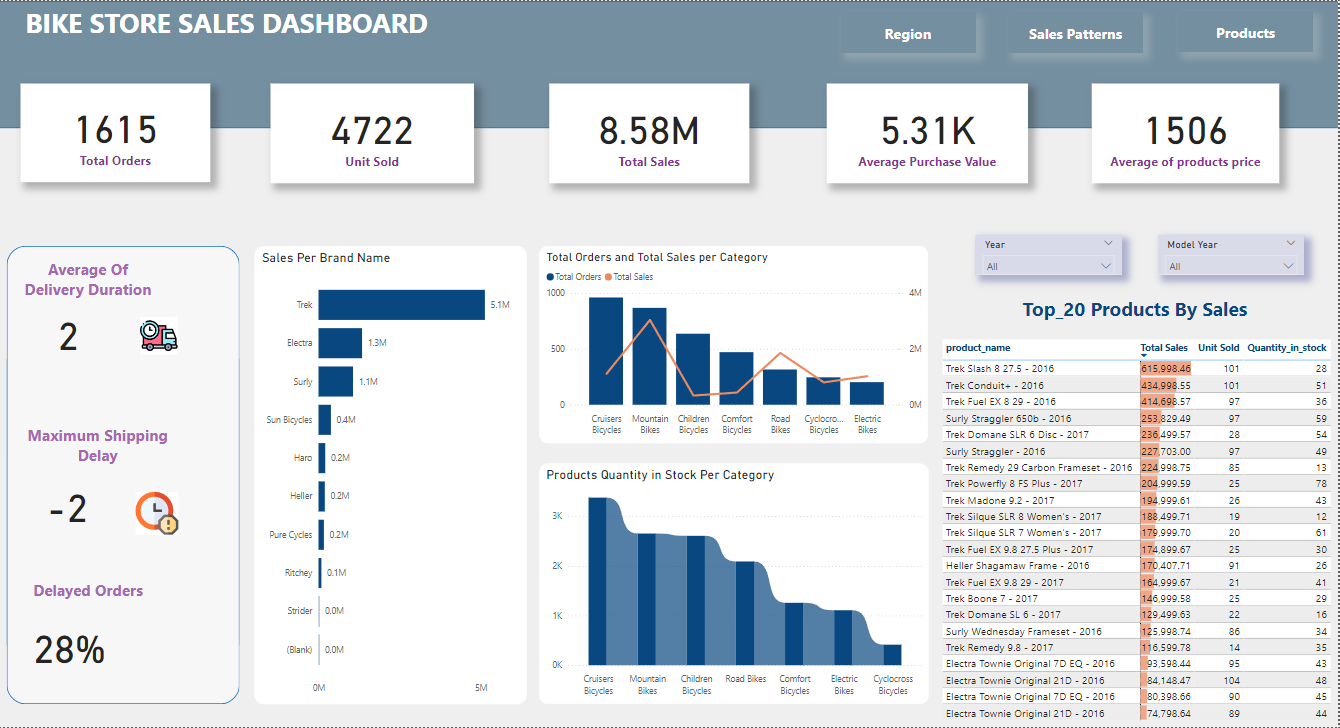

The dashboard page shown, as its layout file describes it:
{"tool":"powerbi","page":{"name":"Products","canvas":[1880,1020],"ordinal":2},"visuals":[{"type":"shape","box":[0,0,1880.4,178.6],"z":0},{"type":"textbox","box":[33.3,0,647.4,71.9],"z":1000},{"type":"slicer","fields":{"Values":["Products.model_year"]},"box":[1628.1,328.1,205.3,56.1],"z":2000},{"type":"card","fields":{"Values":["DAX_Measures.Total Orders"]},"box":[31.6,115.8,266.7,138.6],"z":3000},{"type":"card","fields":{"Values":["DAX_Measures.Unit Sold"]},"box":[382.5,115.8,286,140.4],"z":4000},{"type":"card","fields":{"Values":["DAX_Measures.Average Purchase Value"]},"box":[1163.2,115.8,282.5,140.4],"z":5000},{"type":"shape","box":[12.5,344.6,326.8,642.9],"z":6000},{"type":"card","fields":{"Values":["Avg(Orders.Delivery Duration)"]},"box":[32.1,428.6,133.9,73.2],"z":7000},{"type":"card","fields":{"Values":["Min(Orders.Shipping Delay)"]},"box":[28.6,666.1,137.5,76.8],"z":8000},{"type":"card","fields":{"Values":["DAX_Measures.Count of orders get delay"]},"box":[32.1,866.1,137.5,73.2],"z":9000},{"type":"card","fields":{"Values":["DAX_Measures.Total Sales"]},"box":[773.7,115.8,280.7,140.4],"z":10000},{"type":"clusteredBarChart","title":"Sales Per Brand Name","fields":{"Y":["DAX_Measures.Total Sales"],"Category":["Query1.brand_name"]},"box":[358.9,344.6,382.1,642.9],"z":11000},{"type":"ribbonChart","title":"Products Quantity in Stock Per Category","fields":{"Category":["Query1.category_name"],"Y":["Sum(Query1.Quantity_in_stock)"]},"box":[758.9,650,546.4,337.5],"z":12000},{"type":"tableEx","fields":{"Values":["Query1.product_name","DAX_Measures.Total Sales","DAX_Measures.Unit Sold","Sum(Query1.Quantity_in_stock)"]},"box":[1319.3,470.2,556.1,549.1],"z":13000},{"type":"slicer","fields":{"Values":["Orders.Order Year"]},"box":[1371.9,328.1,205.3,56.1],"z":14000},{"type":"lineClusteredColumnComboChart","title":"Total Orders and Total Sales per Category","fields":{"Y":["DAX_Measures.Total Orders"],"Y2":["DAX_Measures.Total Sales"],"Category":["Query1.category_name"]},"box":[758.9,344.6,546.4,276.8],"z":15000},{"type":"textbox","box":[1393,408.8,405.3,61.4],"z":16000},{"type":"textbox","box":[28.6,355.4,196.4,73.2],"z":17000},{"type":"textbox","box":[12.5,589.3,255.4,94.6],"z":18000},{"type":"image","box":[164.3,439.3,121.4,62.5],"z":19000},{"type":"image","box":[150,683.9,148.2,69.6],"z":20000},{"type":"textbox","box":[21.4,807.1,210.7,58.9],"z":21000},{"type":"card","fields":{"Values":["DAX_Measures.Average of products price"]},"box":[1535.1,115.8,263.2,140.4],"z":22000},{"type":"actionButton","box":[1656.1,14,189.5,57.9],"z":23000},{"type":"actionButton","box":[1182.5,15.8,189.5,57.9],"z":24000},{"type":"actionButton","box":[1417.5,15.8,189.5,57.9],"z":25000}]}

Visuals, with their boxes in screenshot pixels (x1, y1, x2, y2), scaled from the page's 1880x1020 canvas onto the 1340x728 screenshot:
shape: x1=0, y1=0, x2=1339, y2=127
textbox: x1=24, y1=0, x2=485, y2=51
slicer - Products.model_year: x1=1160, y1=234, x2=1307, y2=274
card - DAX_Measures.Total Orders: x1=23, y1=83, x2=213, y2=182
card - DAX_Measures.Unit Sold: x1=273, y1=83, x2=476, y2=183
card - DAX_Measures.Average Purchase Value: x1=829, y1=83, x2=1030, y2=183
shape: x1=9, y1=246, x2=242, y2=705
card - Avg(Orders.Delivery Duration): x1=23, y1=306, x2=118, y2=358
card - Min(Orders.Shipping Delay): x1=20, y1=475, x2=118, y2=530
card - DAX_Measures.Count of orders get delay: x1=23, y1=618, x2=121, y2=670
card - DAX_Measures.Total Sales: x1=551, y1=83, x2=752, y2=183
"Sales Per Brand Name" clusteredBarChart: x1=256, y1=246, x2=528, y2=705
"Products Quantity in Stock Per Category" ribbonChart: x1=541, y1=464, x2=930, y2=705
tableEx - Query1.product_name x DAX_Measures.Total Sales: x1=940, y1=336, x2=1337, y2=727
slicer - Orders.Order Year: x1=978, y1=234, x2=1124, y2=274
"Total Orders and Total Sales per Category" lineClusteredColumnComboChart: x1=541, y1=246, x2=930, y2=444
textbox: x1=993, y1=292, x2=1282, y2=336
textbox: x1=20, y1=254, x2=160, y2=306
textbox: x1=9, y1=421, x2=191, y2=488
image: x1=117, y1=314, x2=204, y2=358
image: x1=107, y1=488, x2=213, y2=538
textbox: x1=15, y1=576, x2=165, y2=618
card - DAX_Measures.Average of products price: x1=1094, y1=83, x2=1282, y2=183
actionButton: x1=1180, y1=10, x2=1315, y2=51
actionButton: x1=843, y1=11, x2=978, y2=53
actionButton: x1=1010, y1=11, x2=1145, y2=53
